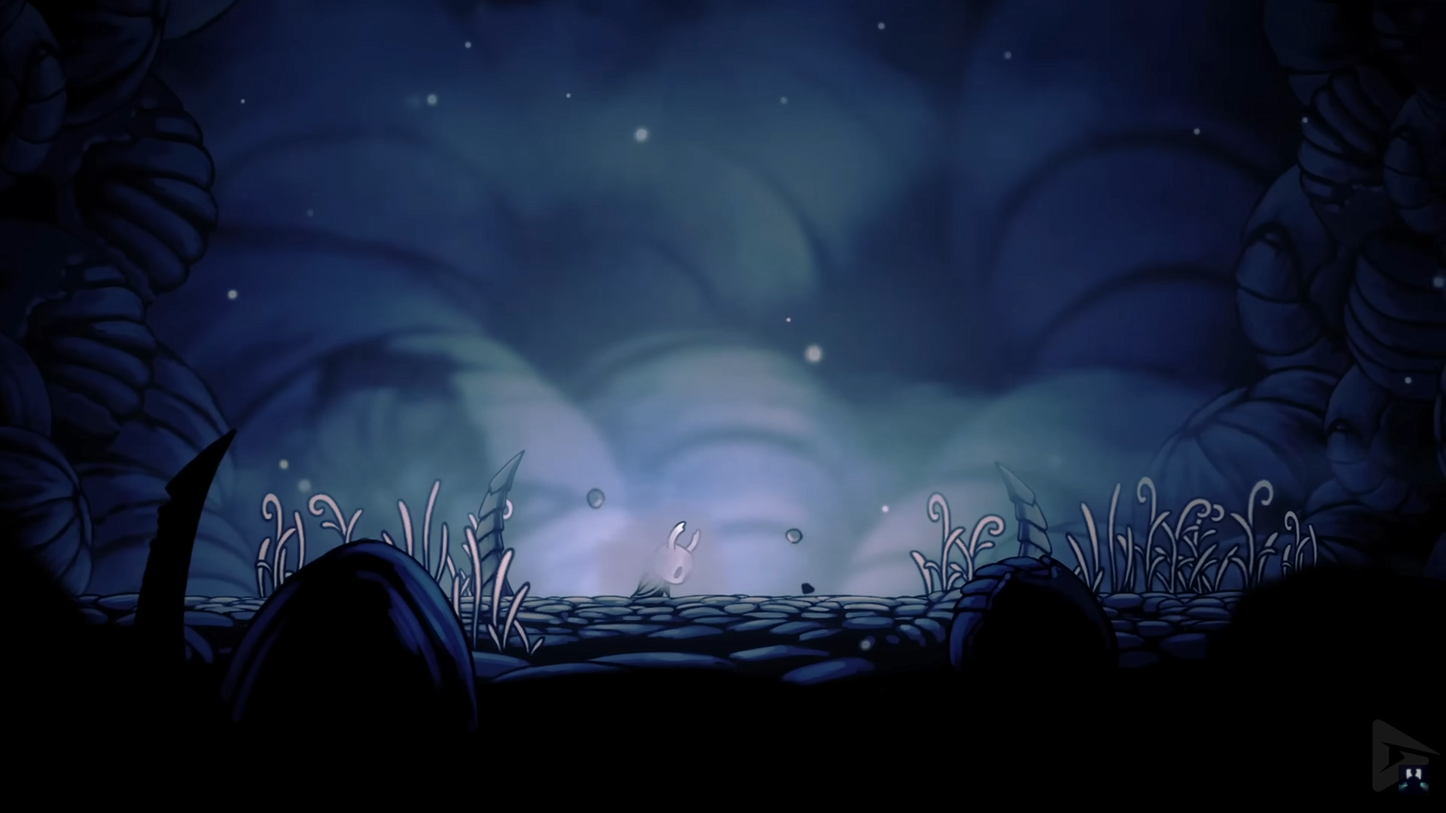HK: (628, 522, 704, 601)
